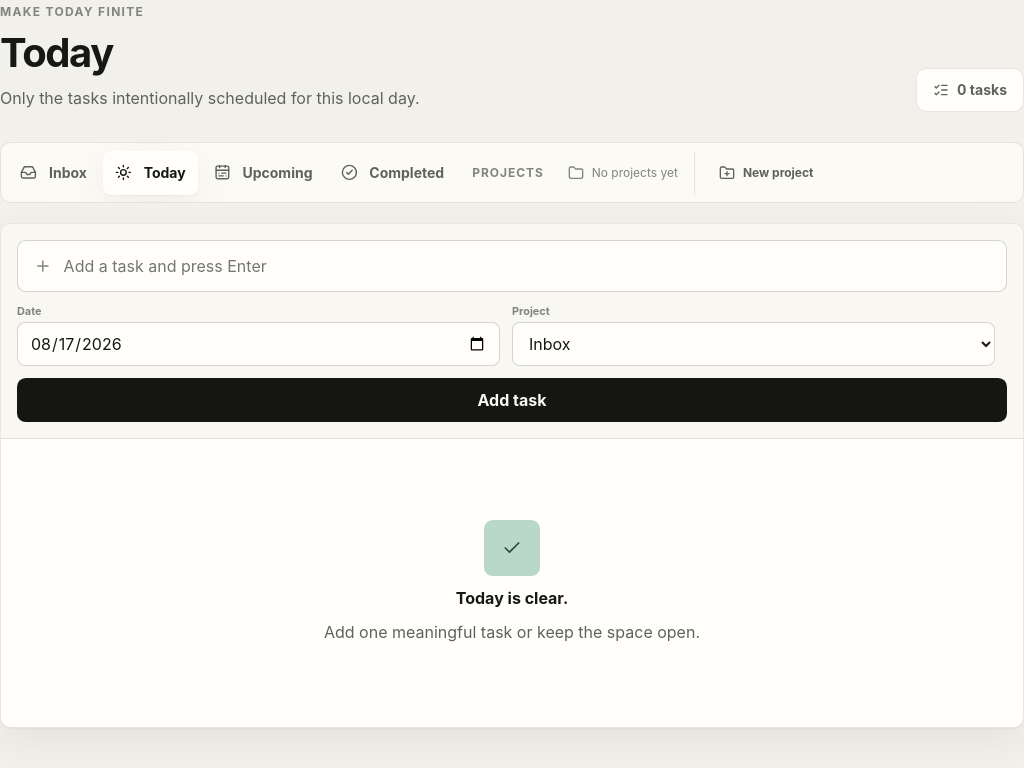
Test case: TasksPage daily flow › uses the user timezone date when adding from Today
Check: the date field named "Scheduled date" holds "2026-08-17", box [17,322,500,366]
Type "Review Today" into the field named "Task title" at (527,266), box [64,242,990,290]
Then press Enter
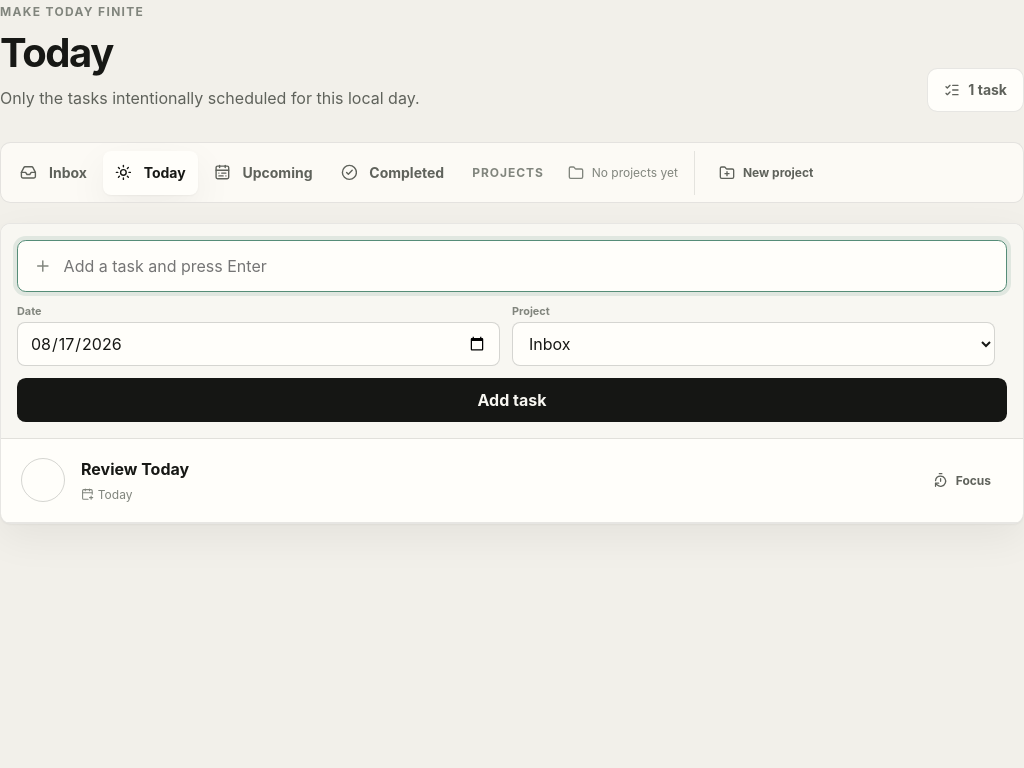
Check: the text "Review Today" is shown, box [81,459,189,479]
